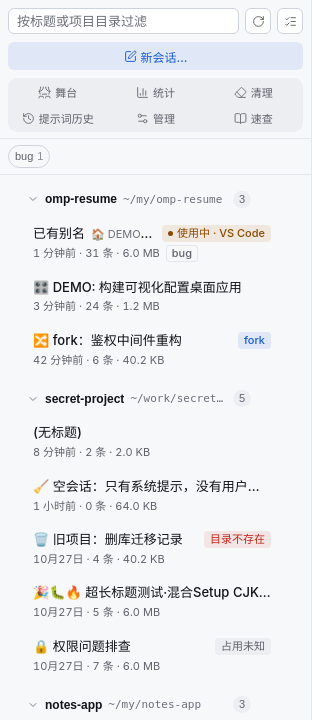
Test: Sidebar 右键菜单 › 「重命名…」后出现输入框；Enter 写入别名并保留标签与备注
The image size is (329, 720).
Right-click the element that starts with "已有别名": {"x": 152, "y": 243} x1=33 y1=225 x2=271 y2=262
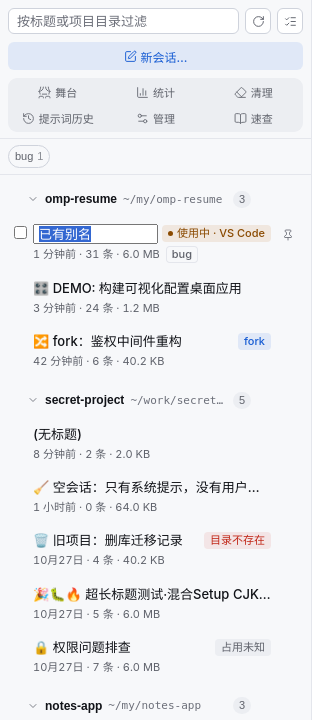
Replace the text in the field named "重命名会话" with "新别名": {"x": 95, "y": 234} x1=33 y1=224 x2=158 y2=244
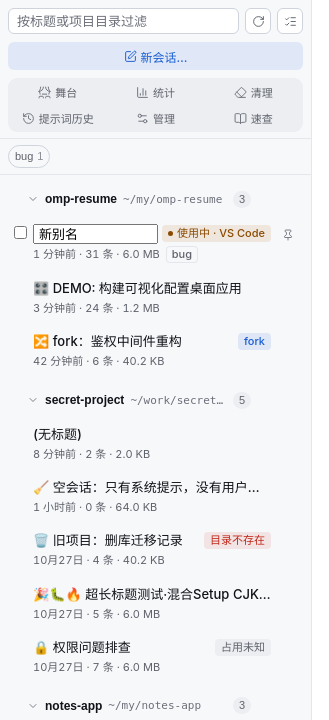
Press Enter in the field named "重命名会话", box x1=33 y1=224 x2=158 y2=244
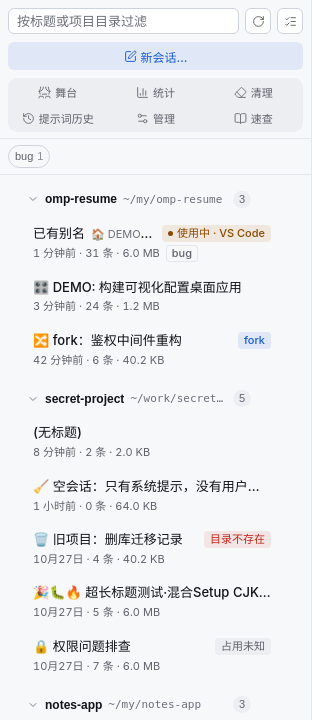
Expected: the field labelled "重命名会话" is gone
